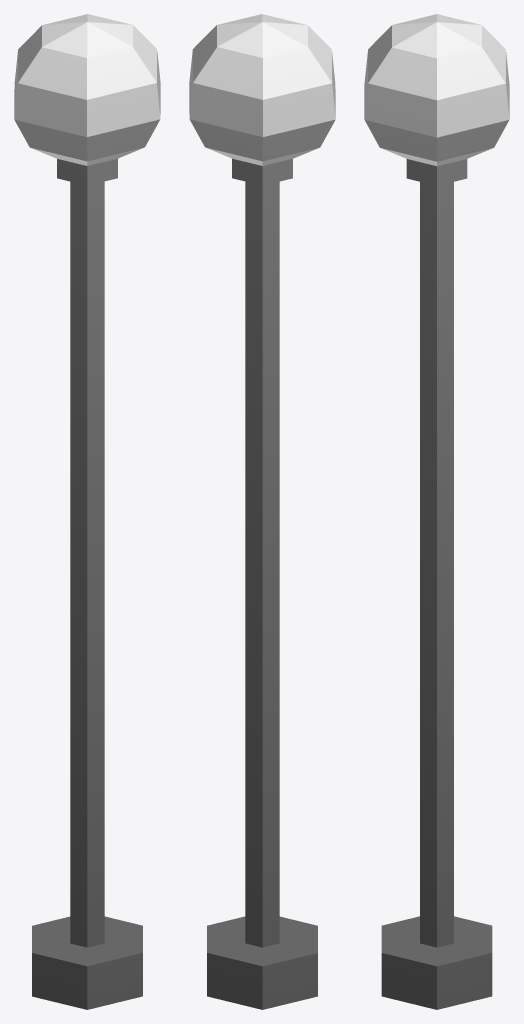
File: lamppost.fbx
The picture shows the model from 3 angles, left to right: view 1: azimuth 30°, elevation 25°; view 2: azimuth 150°, elevation 25°; view 3: azimuth 270°, elevation 25°; orthographic projection.
Parts seen in each view (by area): view 1: lamppost; view 2: lamppost; view 3: lamppost.
Part boxes in pixels (x1=…): lamppost: x1=14, y1=14, x2=160, y2=1009; lamppost: x1=189, y1=14, x2=335, y2=1009; lamppost: x1=364, y1=14, x2=509, y2=1009.
Bounding box in the file's own units: 90.83 × 569 × 77.88.
